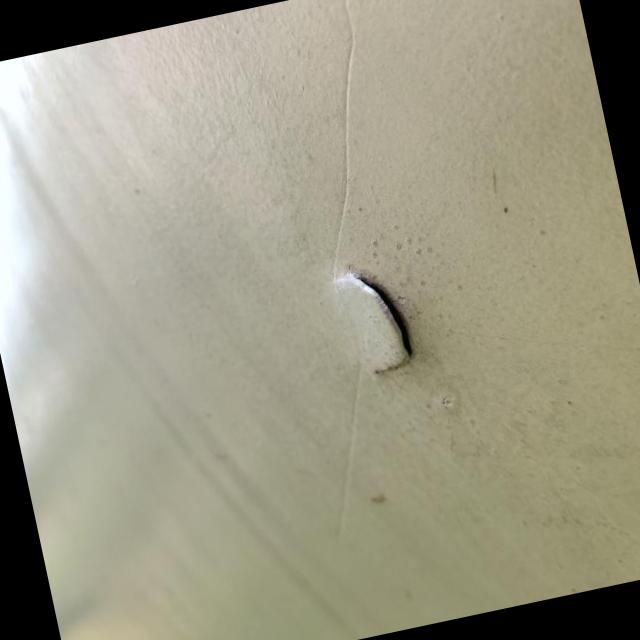Crack: (334, 268, 415, 373)
